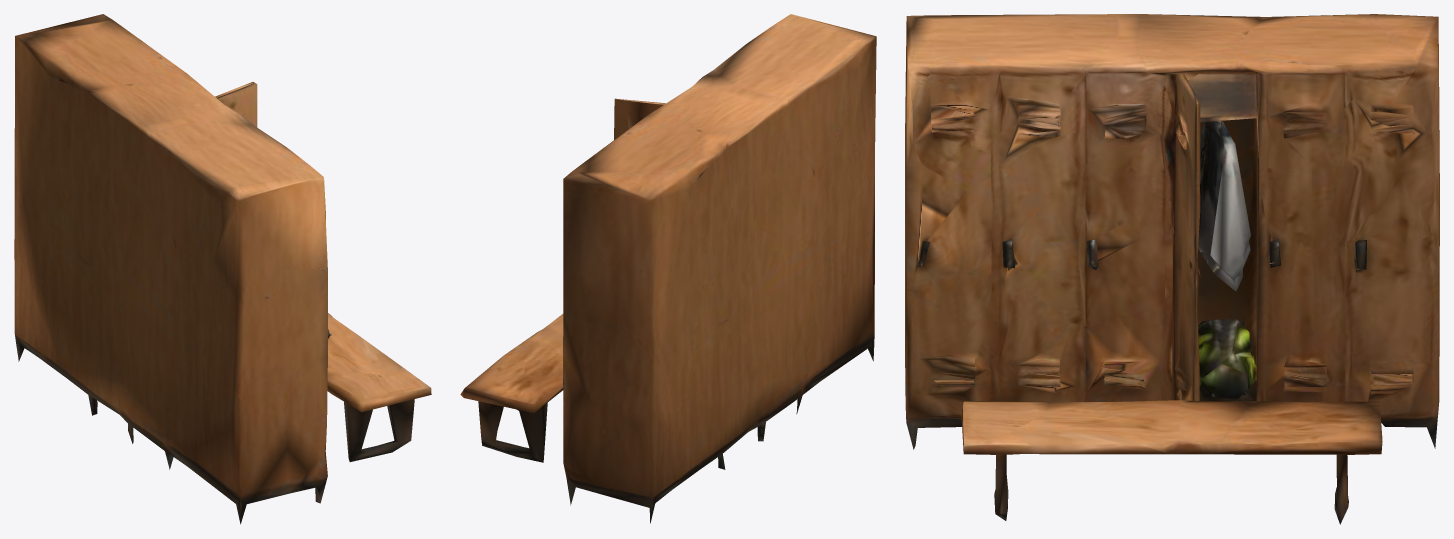
The model's file is innen_spinde.glb.
The picture shows the model from 3 angles, left to right: view 1: azimuth 30°, elevation 25°; view 2: azimuth 150°, elevation 25°; view 3: azimuth 270°, elevation 25°; orthographic projection. The views are drawn at different scales.
Visible parts, largest first — view 1: tripo_node_5fc2466a-751c-42bc-8954-131c5015b698; view 2: tripo_node_5fc2466a-751c-42bc-8954-131c5015b698; view 3: tripo_node_5fc2466a-751c-42bc-8954-131c5015b698.
Boxes of the visible parts, bbox=[...] form: tripo_node_5fc2466a-751c-42bc-8954-131c5015b698: bbox=[14, 14, 431, 524]; tripo_node_5fc2466a-751c-42bc-8954-131c5015b698: bbox=[460, 14, 876, 523]; tripo_node_5fc2466a-751c-42bc-8954-131c5015b698: bbox=[905, 14, 1439, 524].
Size of the model in its own units: 0.5561 by 0.8043 by 0.9995.
1 material, 1 textured.
